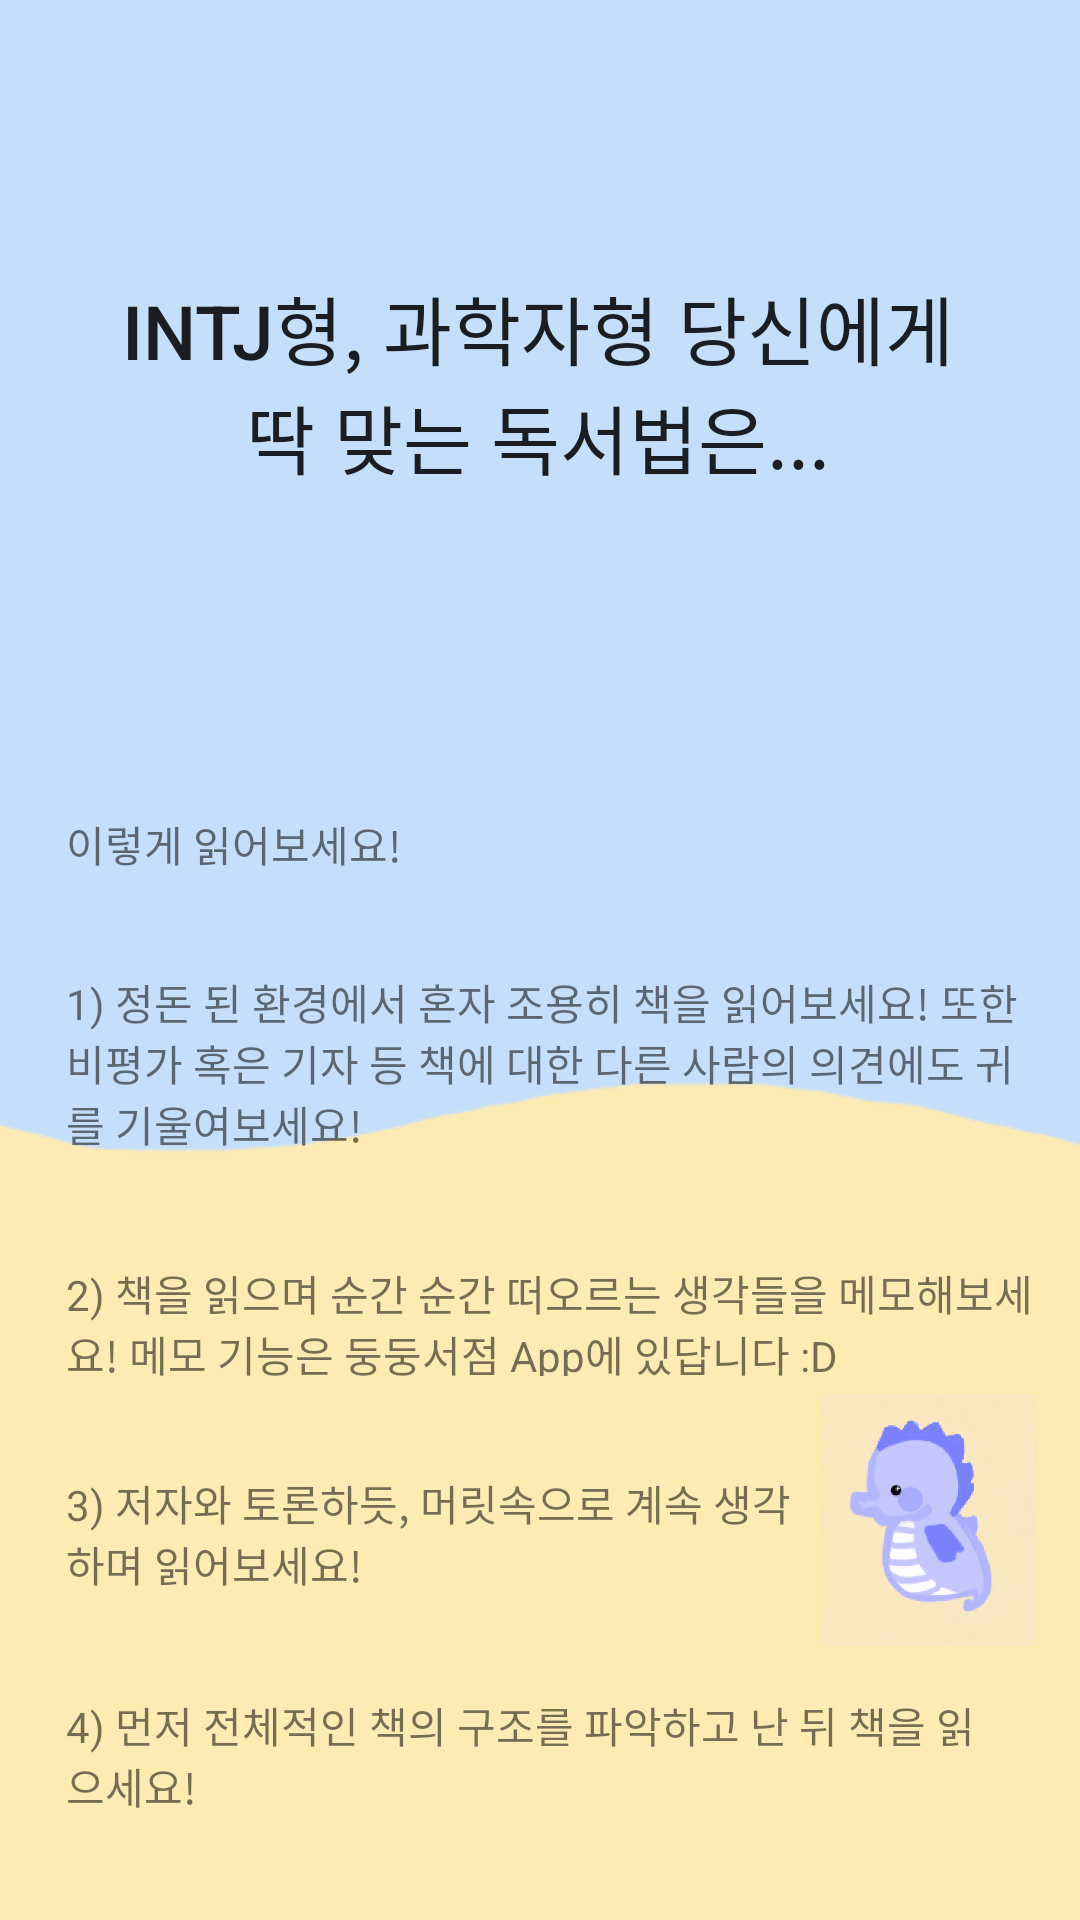

Screen size 1080×1920. Icon name, then its center in pixels as (x,y):
seahorse: (920,1516)
